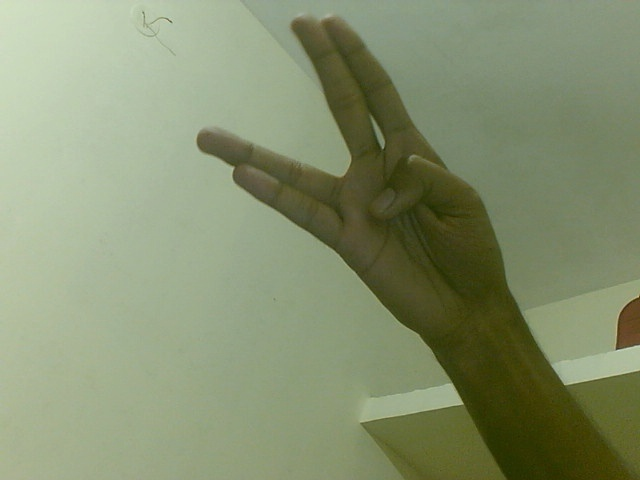hand: (186, 7, 512, 355)
